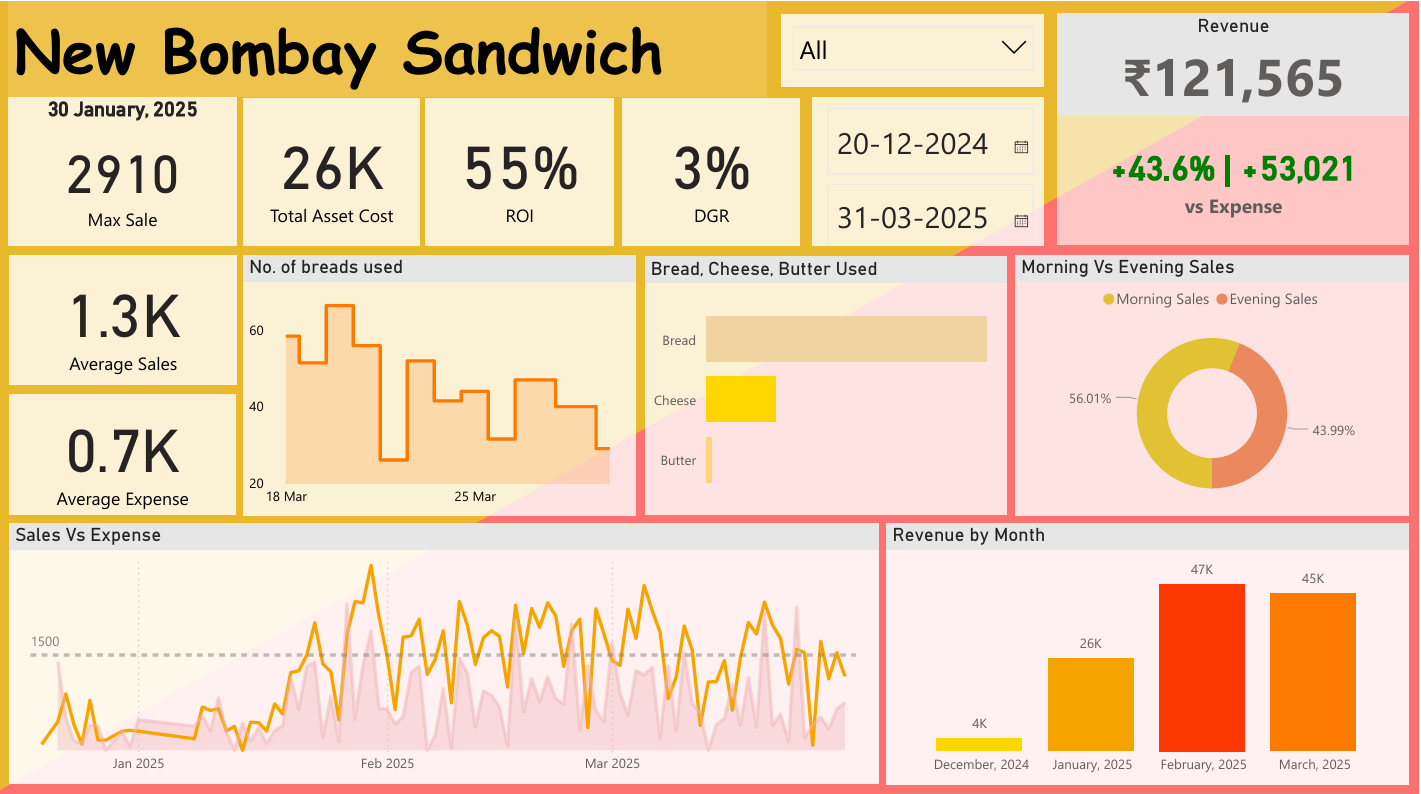

The page's visual inventory and layout, read from the dashboard file:
{"tool":"powerbi","page":{"name":"Page 1","canvas":[1280,720],"ordinal":0},"visuals":[{"type":"lineChart","title":"Sales Vs Expense","fields":{"Y":["Sales.Total Sales","Sales.Total Expense"],"Category":["Calendar3.Date"],"Y2":["Sales._profit"]},"box":[9.2,470,783.8,235.4],"z":0},{"type":"slicer","fields":{"Values":["Calendar3.Month & Year"]},"box":[705,11.7,236.7,65],"z":1000},{"type":"card","title":"Revenue","fields":{"Values":["Sales.KPI Total Sales vs Expense"]},"box":[953.8,11.2,317.5,208.8],"z":2000},{"type":"areaChart","title":"No. of breads used","fields":{"Category":["Inventory1.Date"],"Y":["Sum(Inventory1.Used Qty)"]},"box":[220,228.9,354.4,235.6],"z":3000},{"type":"clusteredBarChart","title":"Bread, Cheese, Butter Used","fields":{"Category":["Inventory1.Material"],"Y":["Sum(Inventory1.Used Qty)"]},"box":[581.7,230,326.7,233.3],"z":4000},{"type":"donutChart","title":"Morning Vs Evening Sales","fields":{"Y":["Sum(Sales.Morning)","Sum(Sales.Evening)"]},"box":[916.2,228.8,355,235],"z":5000},{"type":"textbox","box":[8,0,684,86],"z":6000},{"type":"card","fields":{"Values":["Avg(Sales.Total Amount)"]},"box":[8.8,228.8,205,117.5],"z":7000},{"type":"card","fields":{"Values":["Sales.Max Sale"]},"box":[8,86,206,134],"z":8000},{"type":"card","fields":{"Values":["Sales.ROI"]},"box":[384.4,86.7,170,133.3],"z":9000},{"type":"slicer","fields":{"Values":["Calendar3.Date"]},"box":[733.3,85.6,208.9,134.4],"z":10000},{"type":"card","fields":{"Values":["Sales.Daily Growth Rate"]},"box":[562.2,86.7,160,133.3],"z":11000},{"type":"card","fields":{"Values":["Sales.Total Asset Cost"]},"box":[220,86.9,159.2,133.1],"z":12000},{"type":"card","fields":{"Values":["Avg(Expense2.Total)"]},"box":[8.9,354.2,203.7,109.2],"z":13000},{"type":"columnChart","title":"Revenue by Month","fields":{"Category":["Calendar3.Month & Year"],"Y":["Sum(Sales.Total Amount)"]},"box":[800,470,471.4,235.7],"z":14000}]}

Visuals, with their boxes in screenshot pixels (x1, y1, x2, y2), scaled from the page's 1280x720 canvas onto the 1421x794 screenshot:
"Sales Vs Expense" lineChart: bbox=(10, 518, 880, 778)
slicer - Calendar3.Month & Year: bbox=(783, 13, 1045, 85)
"Revenue" card: bbox=(1059, 12, 1411, 243)
"No. of breads used" areaChart: bbox=(244, 252, 638, 512)
"Bread, Cheese, Butter Used" clusteredBarChart: bbox=(646, 254, 1008, 511)
"Morning Vs Evening Sales" donutChart: bbox=(1017, 252, 1411, 511)
textbox: bbox=(9, 0, 768, 95)
card - Avg(Sales.Total Amount): bbox=(10, 252, 237, 382)
card - Sales.Max Sale: bbox=(9, 95, 238, 243)
card - Sales.ROI: bbox=(427, 96, 615, 243)
slicer - Calendar3.Date: bbox=(814, 94, 1046, 243)
card - Sales.Daily Growth Rate: bbox=(624, 96, 802, 243)
card - Sales.Total Asset Cost: bbox=(244, 96, 421, 243)
card - Avg(Expense2.Total): bbox=(10, 391, 236, 511)
"Revenue by Month" columnChart: bbox=(888, 518, 1411, 778)
